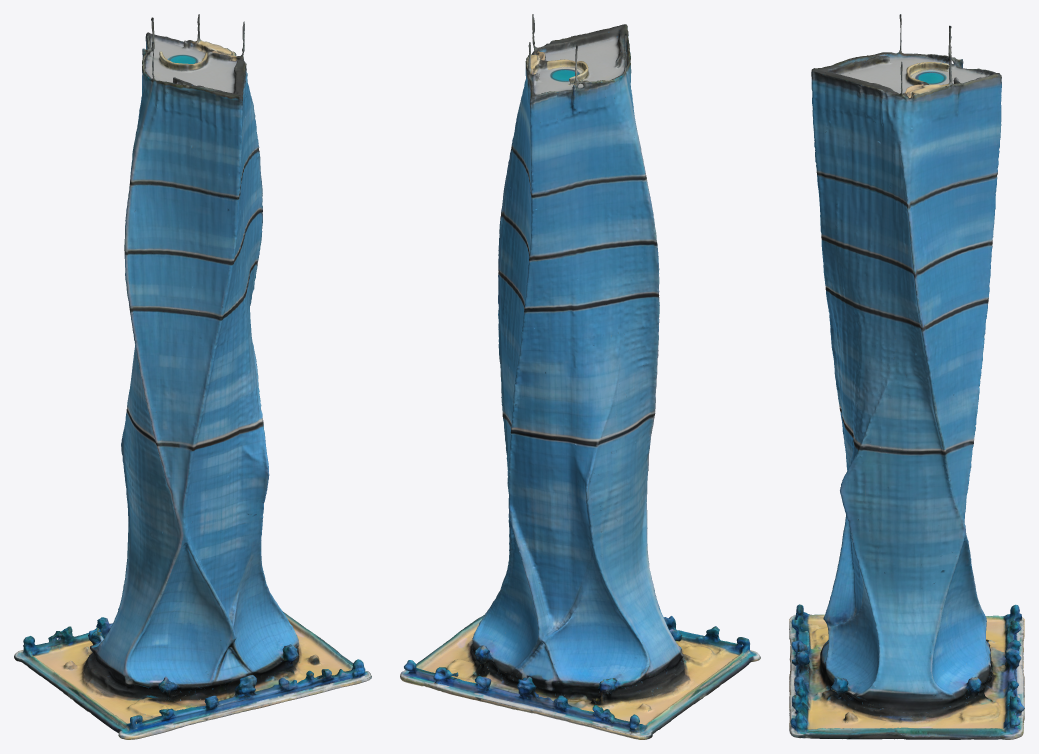
Rendered from Meshy_AI_A_unique_contemporary_0420121553_texture.fbx.
3 views of the same model, side by side, from view 1: azimuth 30°, elevation 25°; view 2: azimuth 150°, elevation 25°; view 3: azimuth 270°, elevation 25° (orthographic).
Visible parts, largest first — view 1: Mesh_0; view 2: Mesh_0; view 3: Mesh_0.
Boxes of the visible parts, box(x1,y1,x2,y2) form: Mesh_0: box(14, 14, 371, 739); Mesh_0: box(400, 14, 760, 739); Mesh_0: box(789, 14, 1024, 739).
Size of the model in its own units: 82.08 by 200 by 66.19.
Materials: 1 (1 with a texture image).
